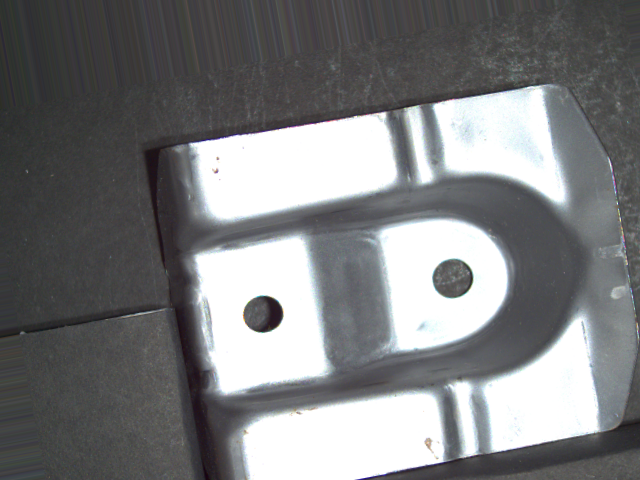defect: (428, 255, 479, 302)
